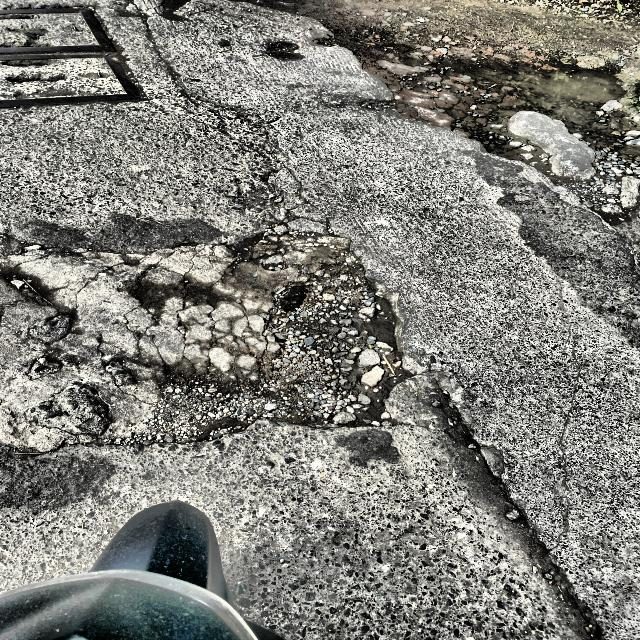pothole: (15, 233, 405, 442)
